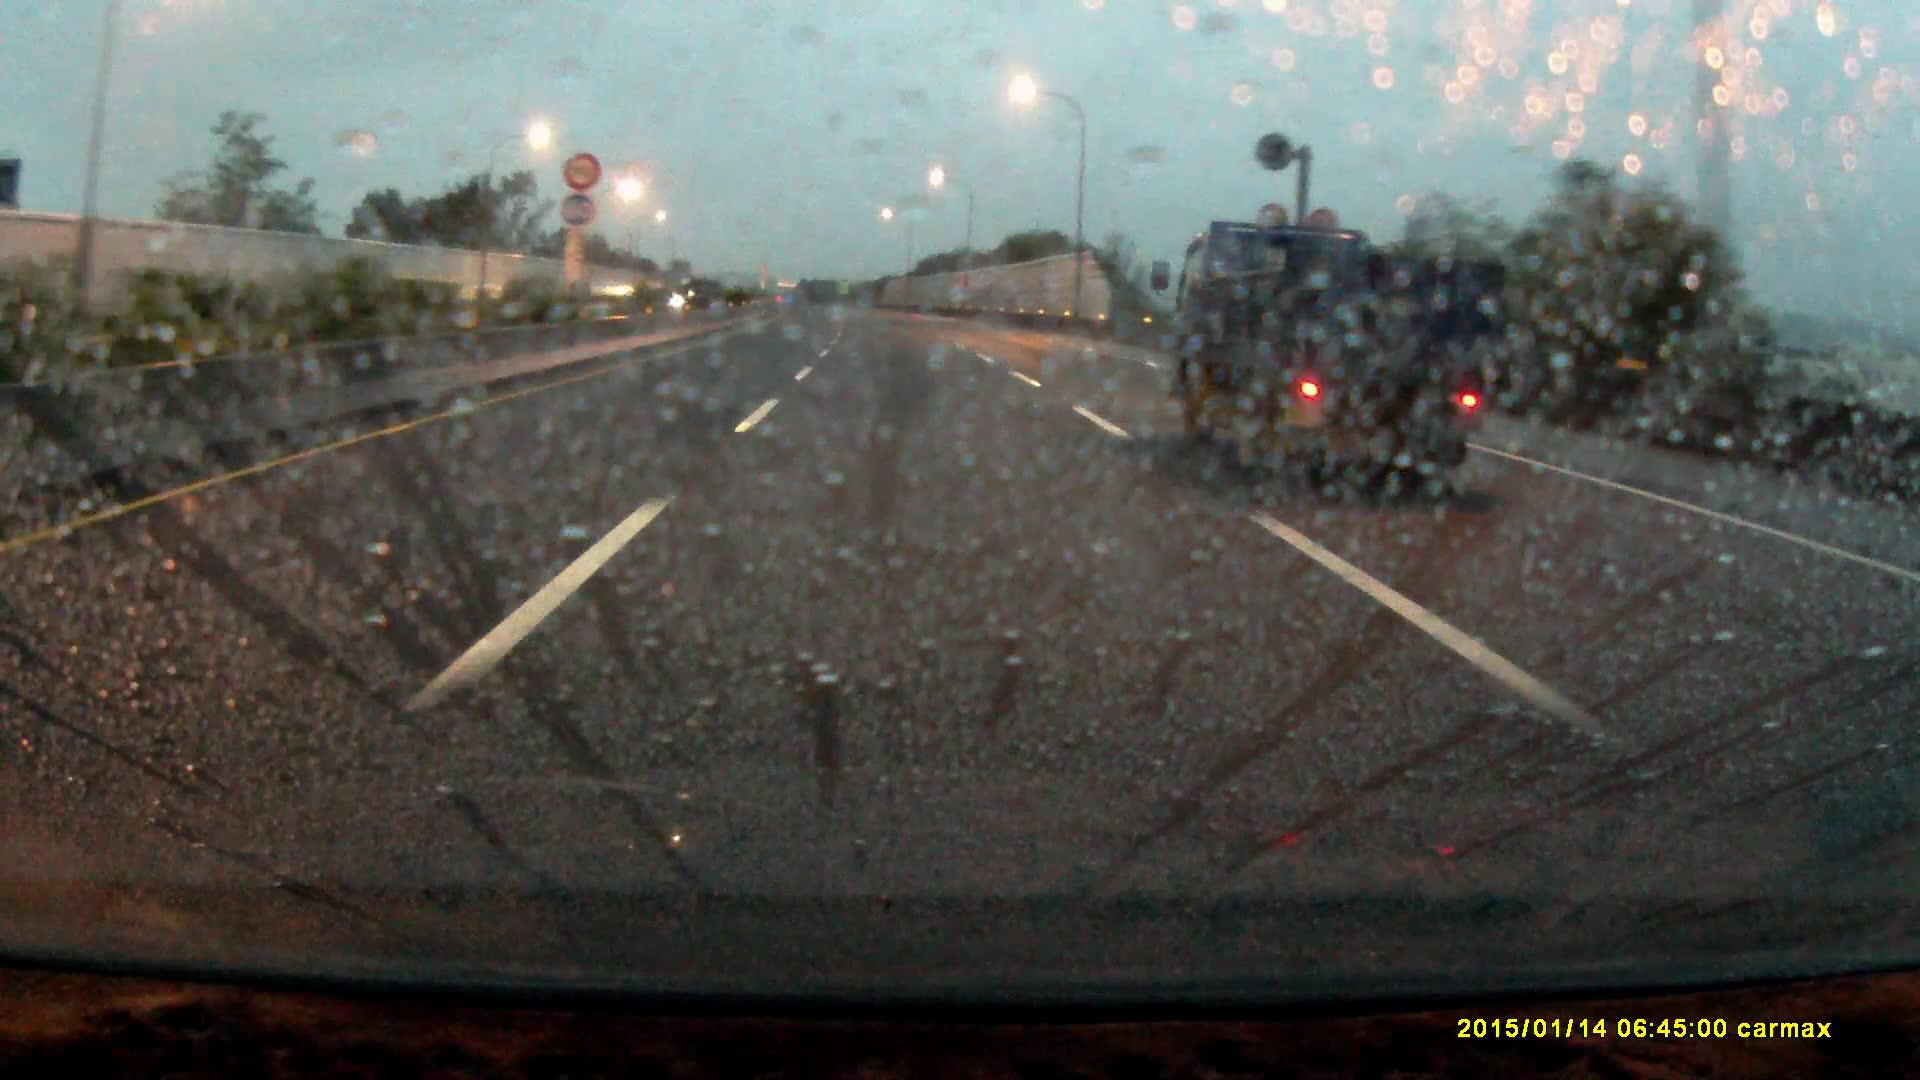vehicle: (1197, 206, 1516, 516)
